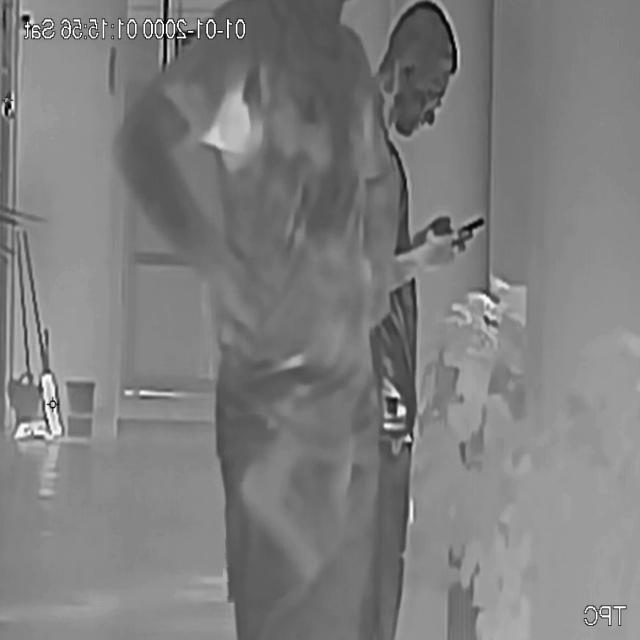Weapon: (225, 414, 348, 608)
